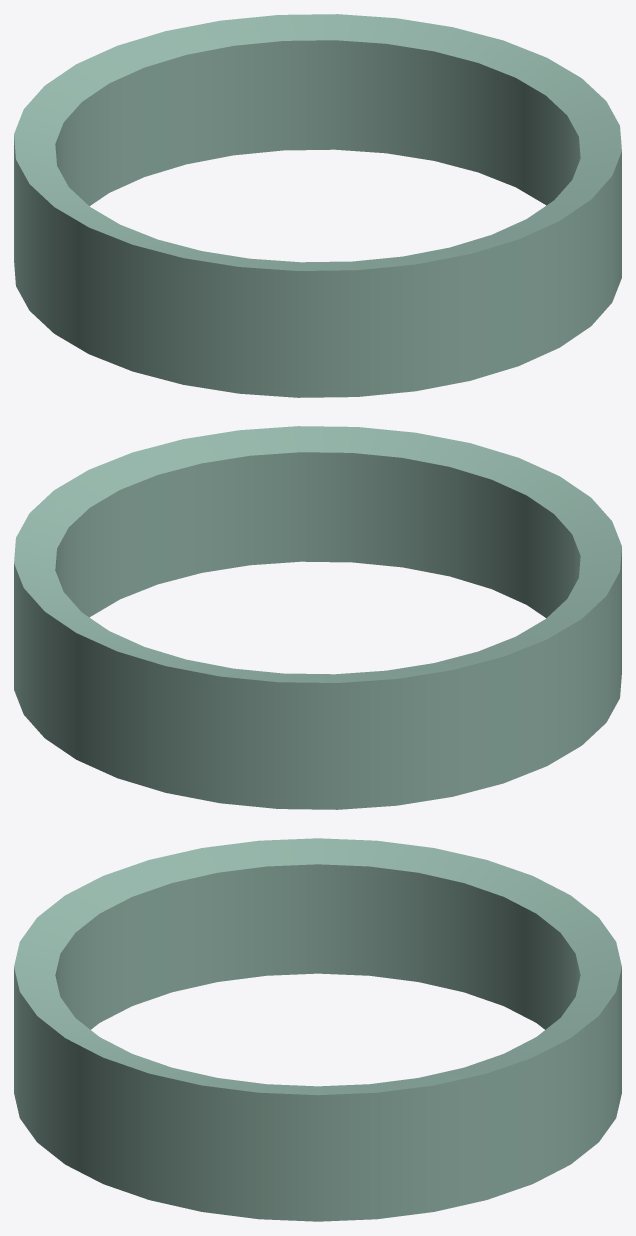
The model's file is drain pipe ring.fbx.
3 views of the same model, one above another, from view 1: azimuth 30°, elevation 25°; view 2: azimuth 150°, elevation 25°; view 3: azimuth 270°, elevation 25° (orthographic).
Visible parts, largest first — view 1: Cylinder.002; view 2: Cylinder.002; view 3: Cylinder.002.
Part boxes in pixels (x1,y1,x2,y2): Cylinder.002: (14, 14, 621, 397); Cylinder.002: (14, 426, 621, 809); Cylinder.002: (14, 838, 621, 1221).
Bounding box in the file's own units: 24.84 × 5.7 × 24.84.
